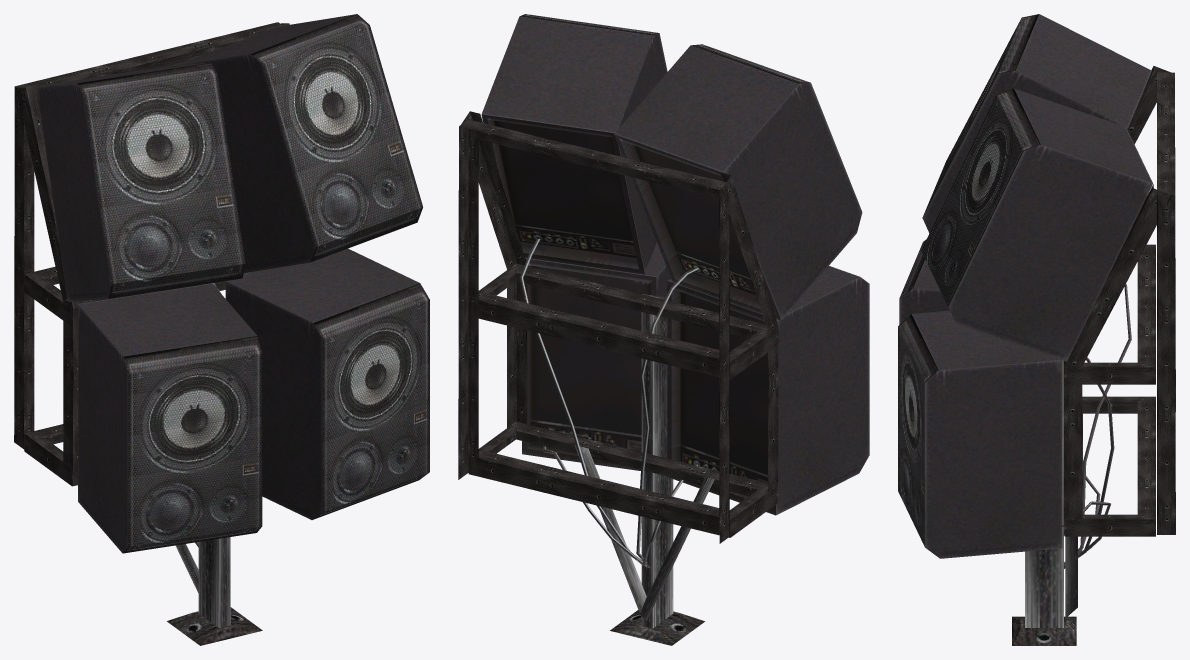
File: cluster_speakers_club.fbx
3 renders of one model, left to right at view 1: azimuth 30°, elevation 25°; view 2: azimuth 150°, elevation 25°; view 3: azimuth 270°, elevation 25°, orthographic. The views are drawn at different scales.
Visible parts, largest first — view 1: mesh_0; view 2: mesh_0; view 3: mesh_0.
Part boxes in pixels (box(x1,y1,x2,y2)): mesh_0: box(14, 14, 429, 645); mesh_0: box(458, 14, 869, 645); mesh_0: box(898, 14, 1175, 645).
Bounding box in the file's own units: 105 × 185 × 84.36.
Materials: 1 (1 with a texture image).
